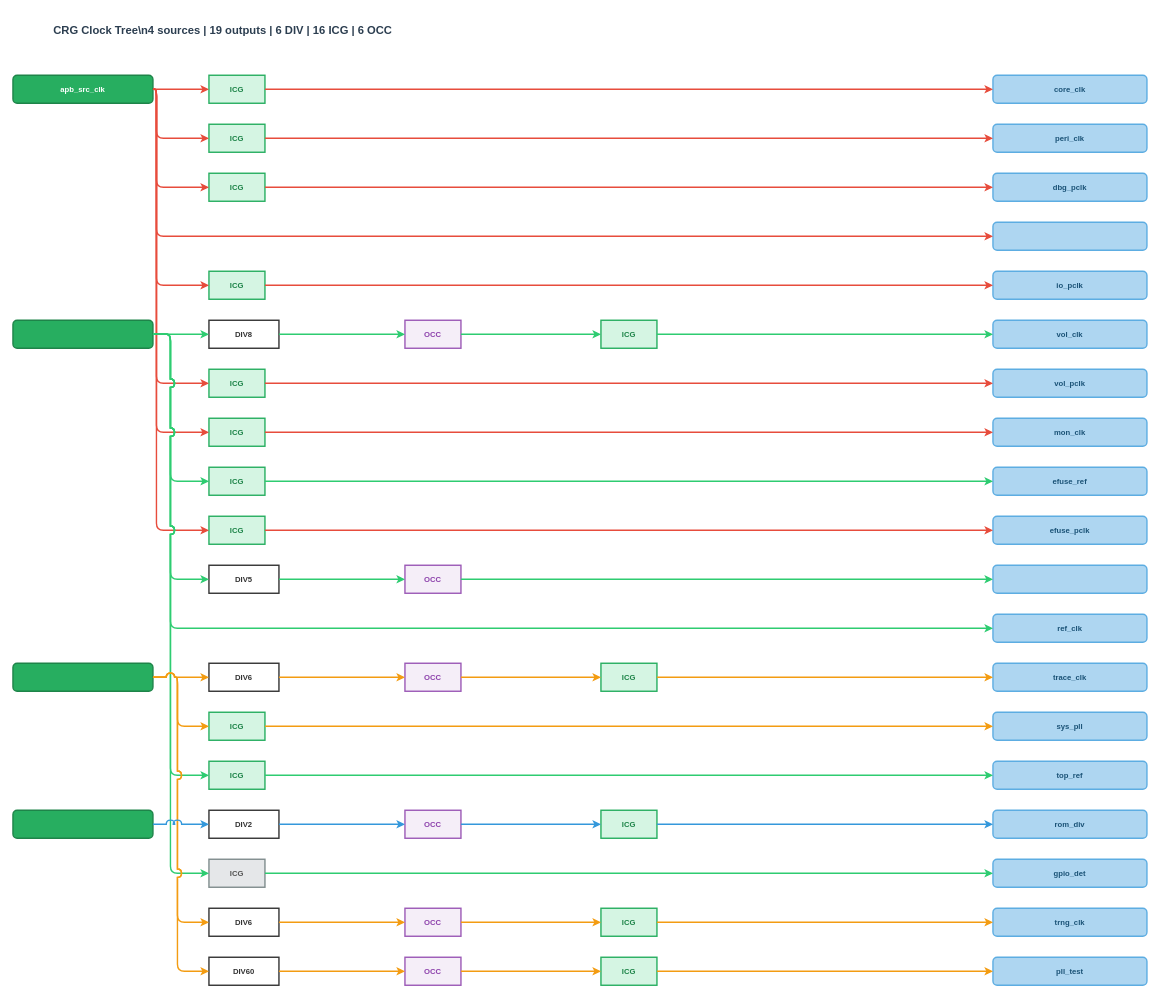
This 1159x998 diagram has some shape labels left out. The centre of each missing label's shape, as x and y in pixels:
"cfg_clk" belongs at (x=1069, y=236).
"div_src_clk" belongs at (x=82, y=824).
"pad_src_clk" belongs at (x=82, y=334).
"pll_src_clk" belongs at (x=82, y=677).
"s32k_clk" belongs at (x=1069, y=579).
